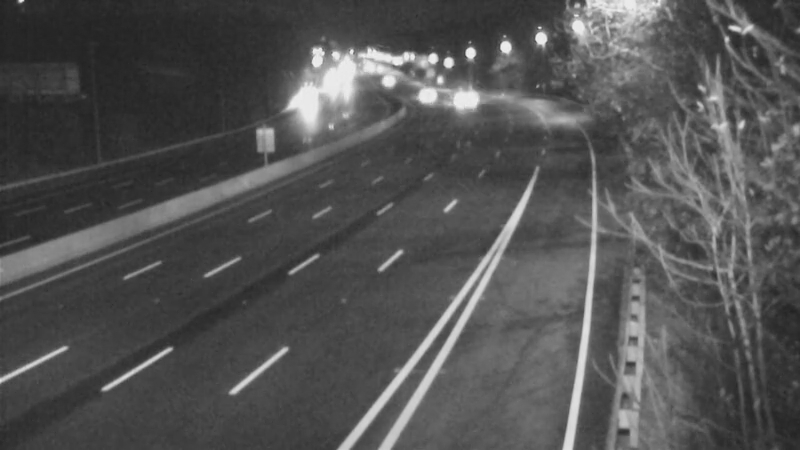vehicle: (400, 70, 450, 120), (444, 72, 494, 122)
